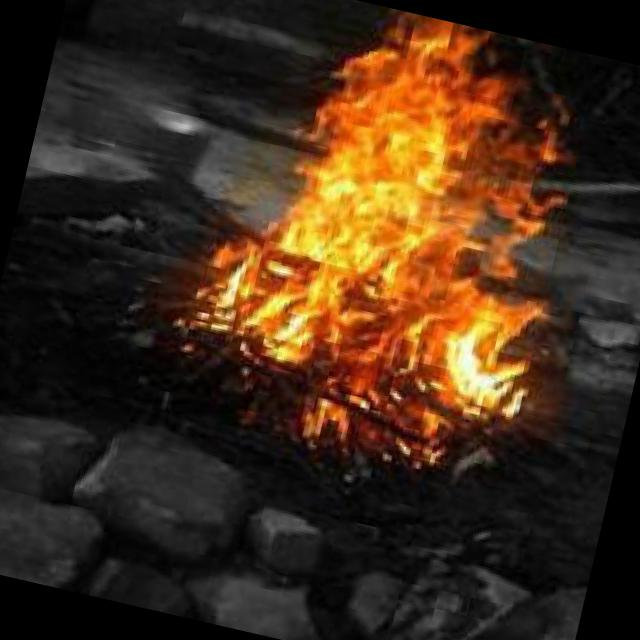fire: (174, 0, 615, 498)
